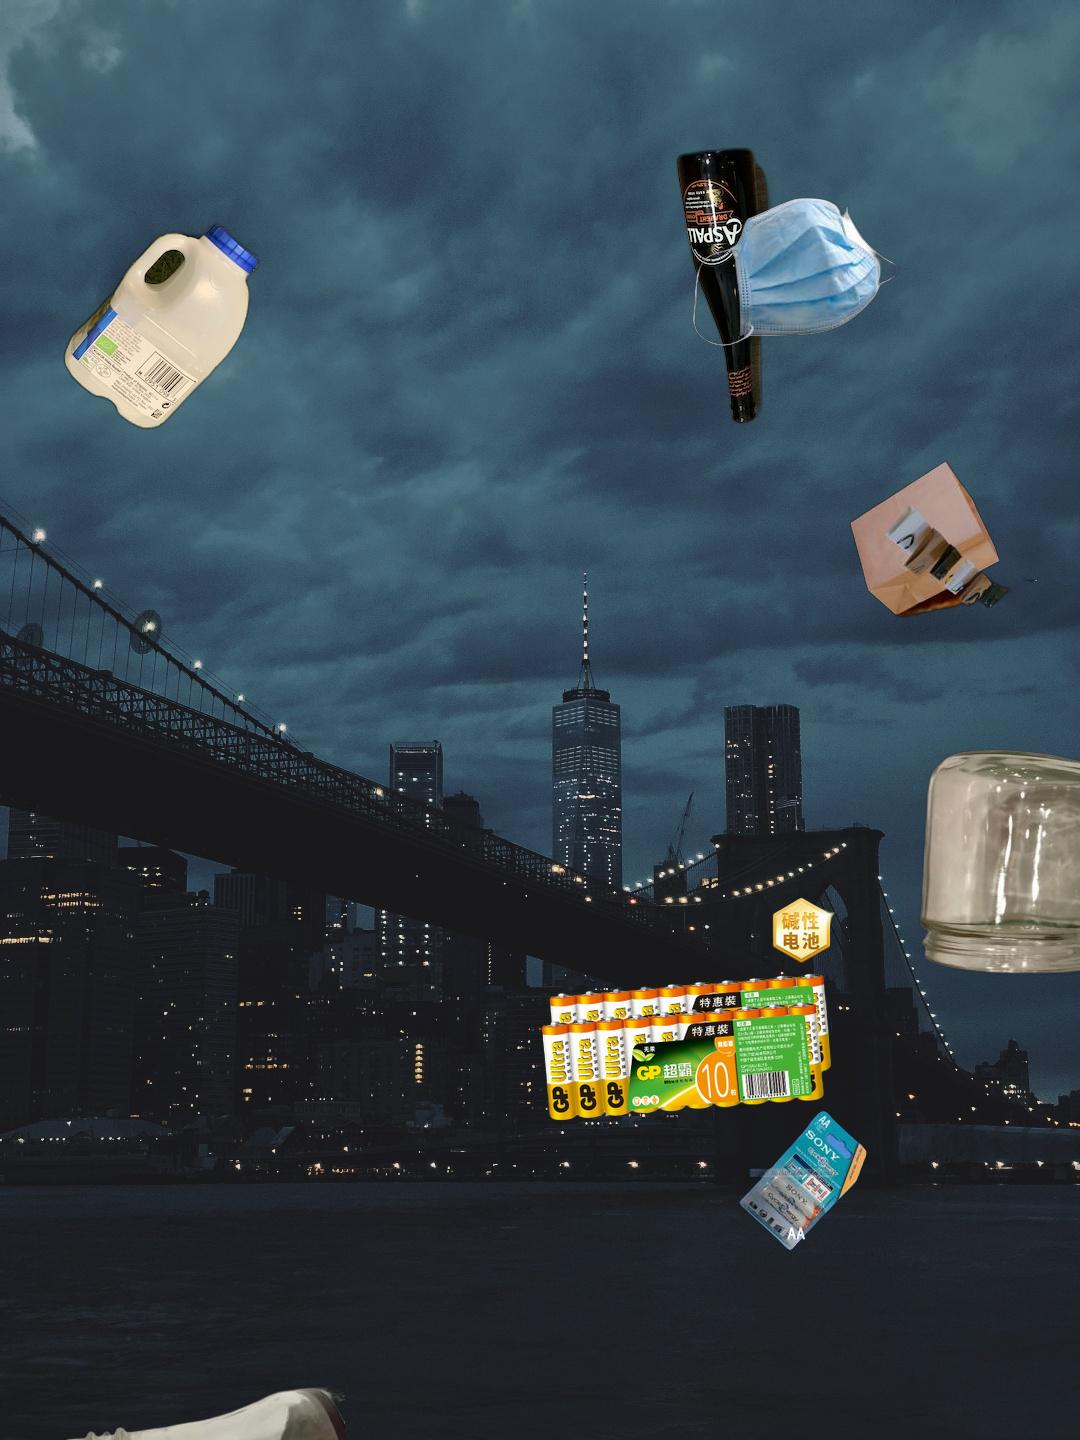battery: (539, 895, 841, 1121), (736, 1108, 870, 1253)
glass: (915, 747, 1080, 979), (672, 143, 778, 428), (53, 1385, 345, 1440)
paper-bag: (849, 459, 1014, 620)
plastic-bottles: (59, 219, 263, 435)
trash: (690, 195, 902, 349)
